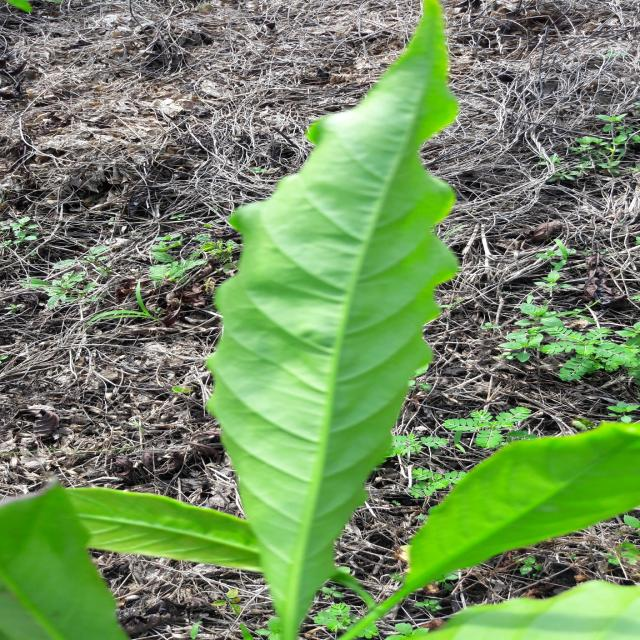Sanas: (206, 0, 462, 640)
